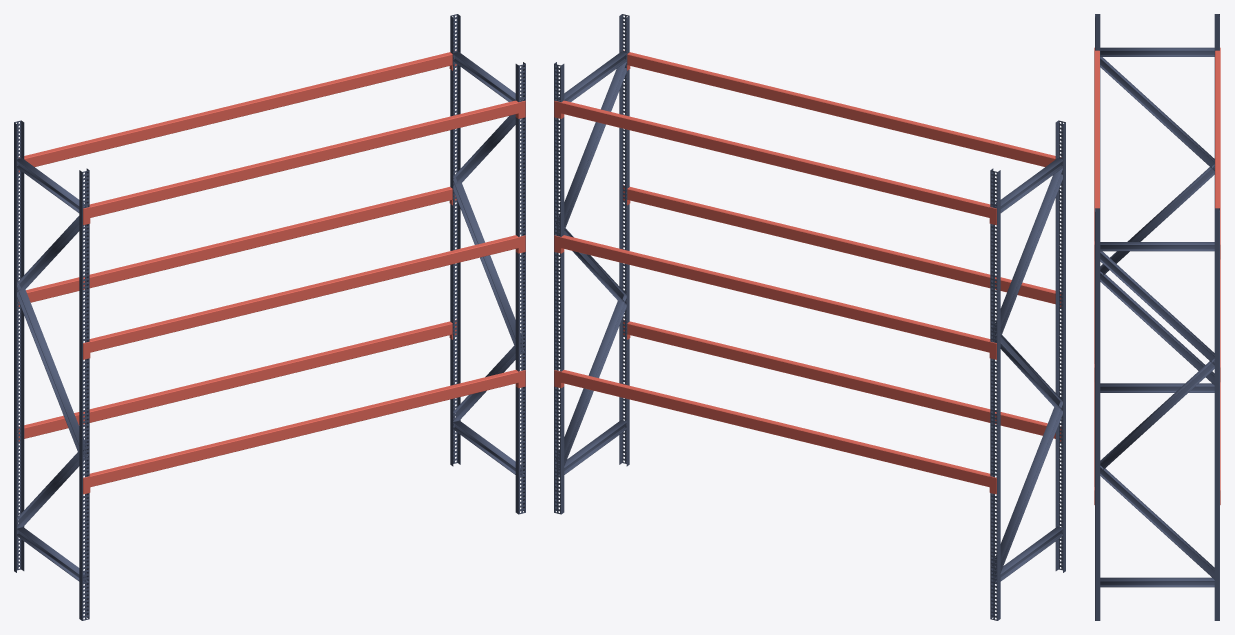
The model's file is shelf.fbx.
3 views of the same model, side by side, from view 1: azimuth 30°, elevation 25°; view 2: azimuth 150°, elevation 25°; view 3: azimuth 270°, elevation 25° (orthographic). The views are drawn at different scales.
Parts seen in each view (by area): view 1: WarehouseShelf01; view 2: WarehouseShelf01; view 3: WarehouseShelf01.
Boxes of the visible parts, box(x1,y1,x2,y2) form: WarehouseShelf01: box(14, 14, 525, 620); WarehouseShelf01: box(554, 14, 1065, 620); WarehouseShelf01: box(1094, 14, 1220, 620).
Size of the model in its own units: 414 by 400 by 112.
